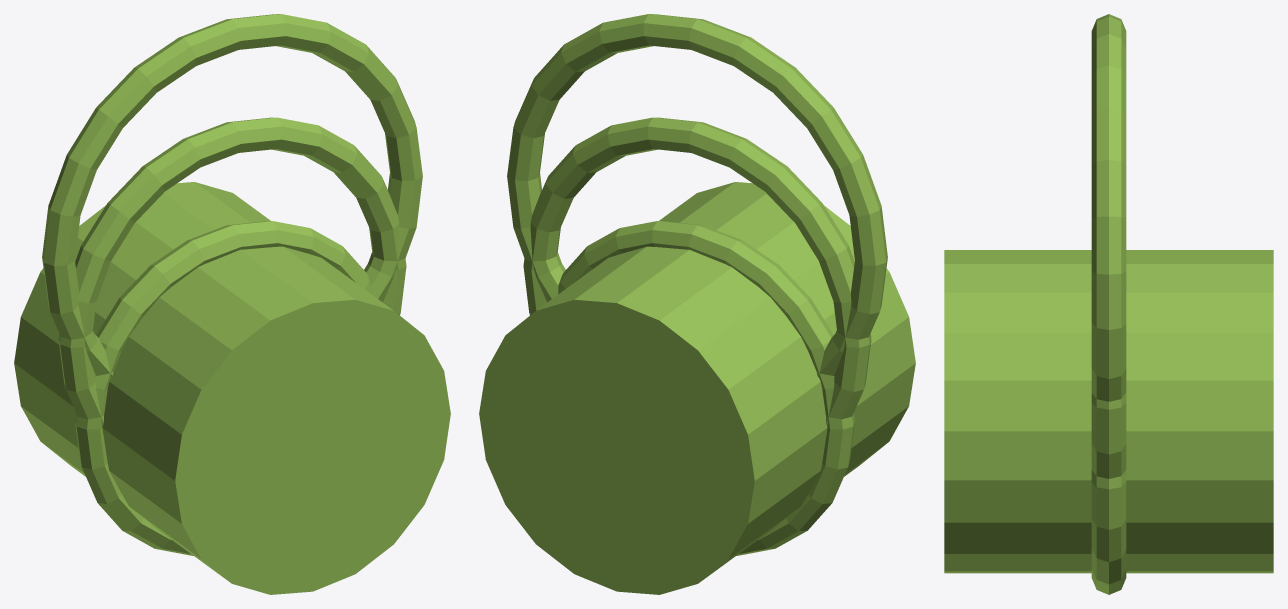
The model's file is food_045.glb.
3 renders of one model, left to right at view 1: azimuth 30°, elevation 25°; view 2: azimuth 150°, elevation 25°; view 3: azimuth 270°, elevation 25°, orthographic. The views are drawn at different scales.
Visible parts, largest first — view 1: world; view 2: world; view 3: world.
Boxes of the visible parts, x1,y1,x2,y2 form: world: [14, 14, 450, 594]; world: [479, 14, 915, 594]; world: [944, 14, 1273, 594].
Bounding box in the file's own units: 1.15 × 1.55 × 0.85.
